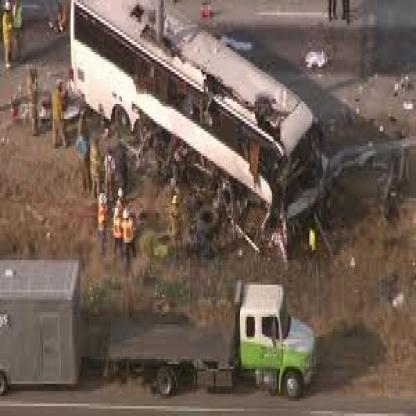accident: (68, 7, 330, 254)
